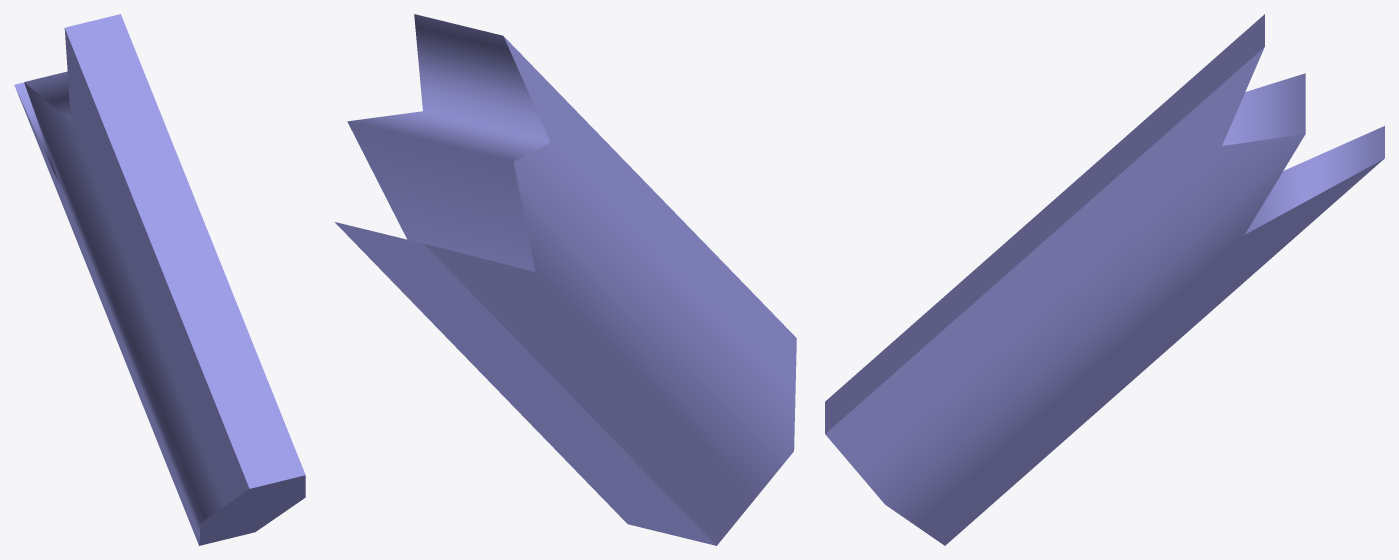
Rendered from SwordBlueShard.fbx.
The picture shows the model from 3 angles, left to right: view 1: azimuth 30°, elevation 25°; view 2: azimuth 150°, elevation 25°; view 3: azimuth 270°, elevation 25°; orthographic projection. The views are drawn at different scales.
Visible parts, largest first — view 1: polySurface42; view 2: polySurface42; view 3: polySurface42.
Boxes of the visible parts, x1,y1,x2,y2 form: polySurface42: [14, 14, 305, 545]; polySurface42: [335, 14, 796, 545]; polySurface42: [825, 14, 1384, 545].
Size of the model in its own units: 0.8359 by 3.2 by 3.25.
